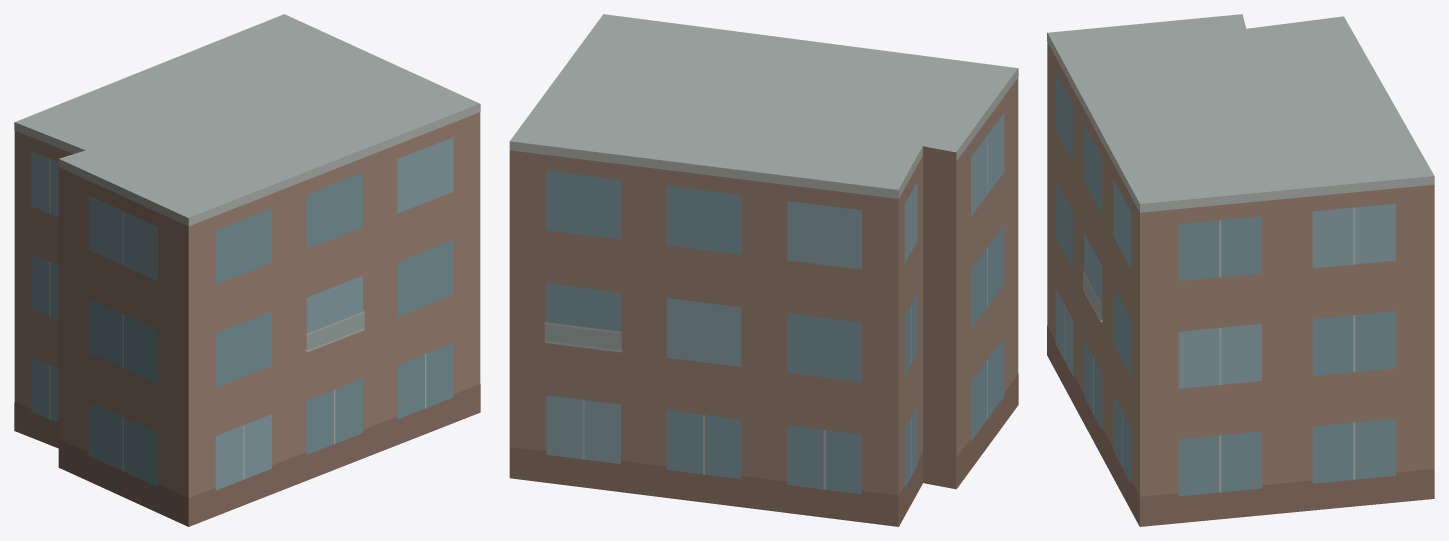
Rendered from survey-upis-32766743.glb.
3 renders of one model, left to right at view 1: azimuth 30°, elevation 25°; view 2: azimuth 150°, elevation 25°; view 3: azimuth 270°, elevation 25°, orthographic. The views are drawn at different scales.
Visible parts, largest first — view 1: survey-upis-32766743.tmp; view 2: survey-upis-32766743.tmp; view 3: survey-upis-32766743.tmp.
Boxes of the visible parts, x1=… form: survey-upis-32766743.tmp: x1=14, y1=14, x2=480, y2=526; survey-upis-32766743.tmp: x1=509, y1=14, x2=1018, y2=526; survey-upis-32766743.tmp: x1=1047, y1=14, x2=1434, y2=526.
Bounding box in the file's own units: 11.5 × 9.1 × 9.91.
